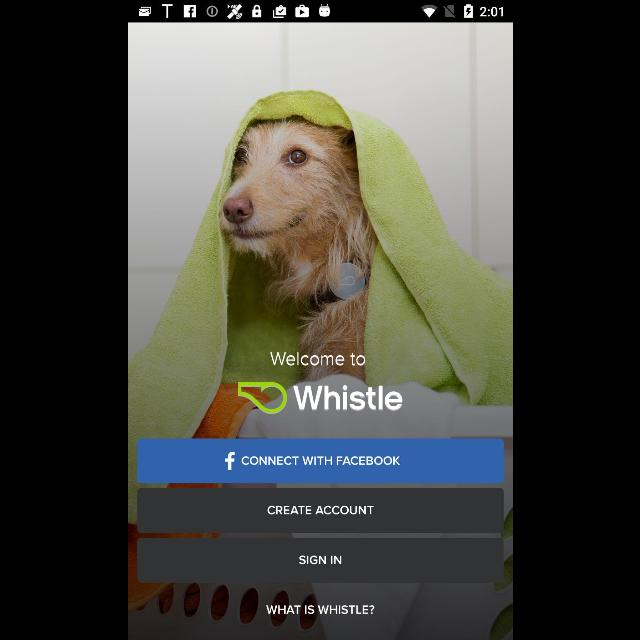backgroundimage: (128, 22, 512, 640)
image: (238, 382, 402, 414)
text: (270, 352, 364, 366), (266, 604, 374, 614)
textbutton: (137, 488, 503, 534), (137, 538, 503, 582), (137, 439, 503, 483)
uppertaskbar: (128, 1, 512, 23)
